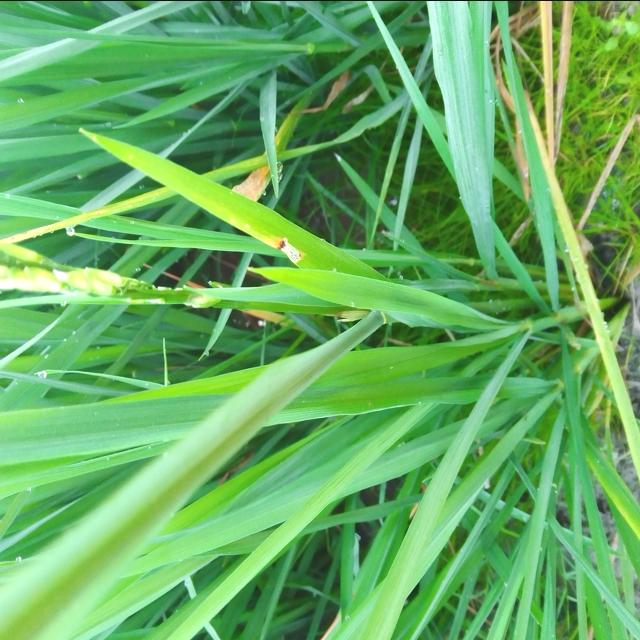Brown spot: (200, 153, 322, 273)
